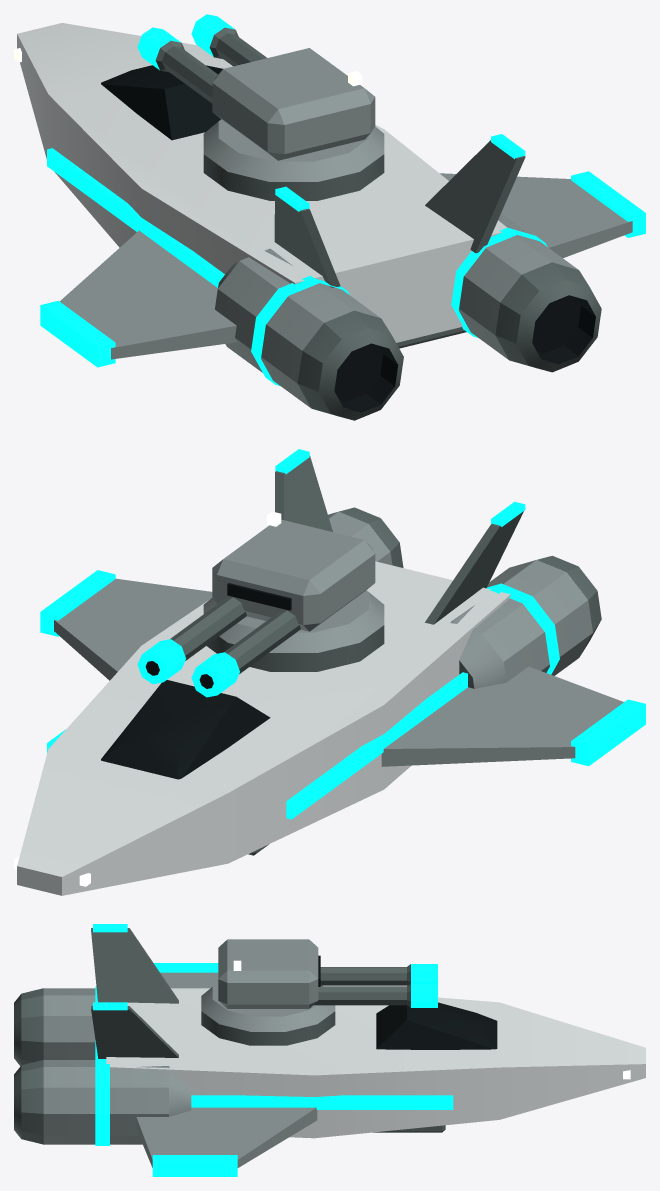
The model's file is escolta.glb.
The picture shows the model from 3 angles, top to bottom: view 1: azimuth 30°, elevation 25°; view 2: azimuth 150°, elevation 25°; view 3: azimuth 270°, elevation 25°; orthographic projection. The views are drawn at different scales.
Parts seen in each view (by area): view 1: escolta_casco, escolta_torre; view 2: escolta_casco, escolta_torre; view 3: escolta_casco, escolta_torre.
Boxes of the visible parts, x1,y1,x2,y2 form: escolta_casco: [14, 23, 645, 420]; escolta_torre: [137, 14, 384, 200]; escolta_casco: [14, 449, 645, 895]; escolta_torre: [137, 511, 384, 697]; escolta_casco: [14, 924, 645, 1176]; escolta_torre: [201, 939, 437, 1045].
Bounding box in the file's own units: 6.1 × 2.26 × 8.2.
